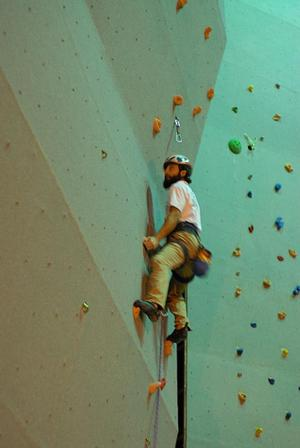person: (134, 154, 202, 348)
